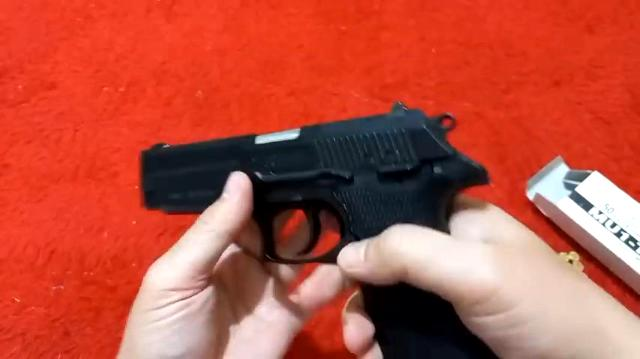pistol: (138, 110, 466, 334)
